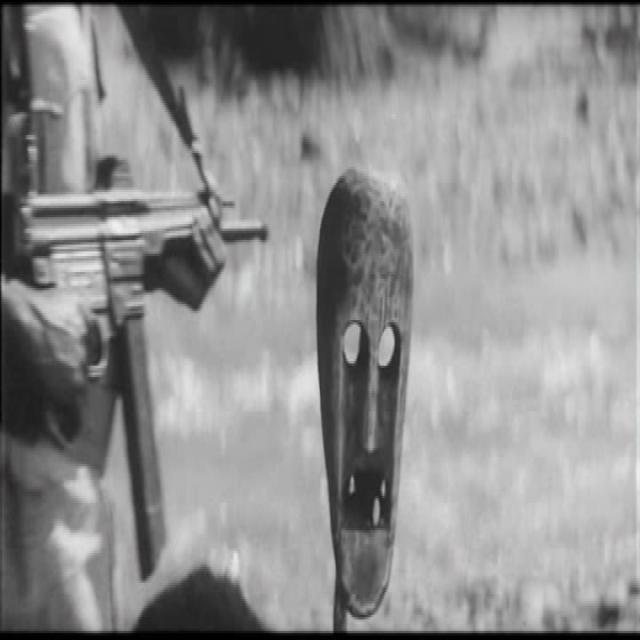rifle: (18, 161, 273, 593)
